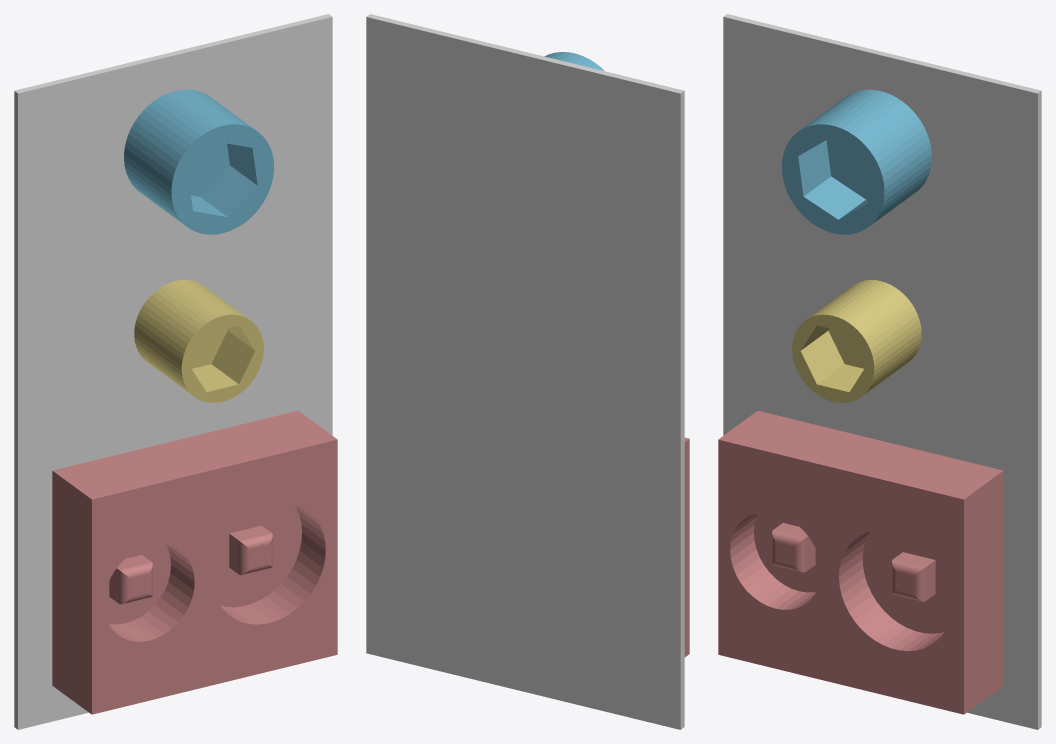
File: pickup_layout.glb
3 views of the same model, side by side, from view 1: azimuth 30°, elevation 25°; view 2: azimuth 150°, elevation 25°; view 3: azimuth 330°, elevation 25° (orthographic).
Visible parts, largest first — view 1: world, 0.obj, 2.obj, 1.obj; view 2: world, 0.obj; view 3: world, 0.obj, 2.obj, 1.obj.
Boxes of the visible parts, box(x1,y1,x2,y2) form: world: box(14, 14, 332, 729); 0.obj: box(52, 410, 337, 714); 2.obj: box(124, 89, 273, 234); 1.obj: box(134, 280, 263, 402); world: box(366, 14, 684, 729); 0.obj: box(684, 437, 689, 657); world: box(723, 14, 1041, 729); 0.obj: box(718, 410, 1003, 714); 2.obj: box(782, 89, 931, 234); 1.obj: box(792, 280, 921, 402).
Bounding box in the file's own units: 9.17 × 17.75 × 2.6.
